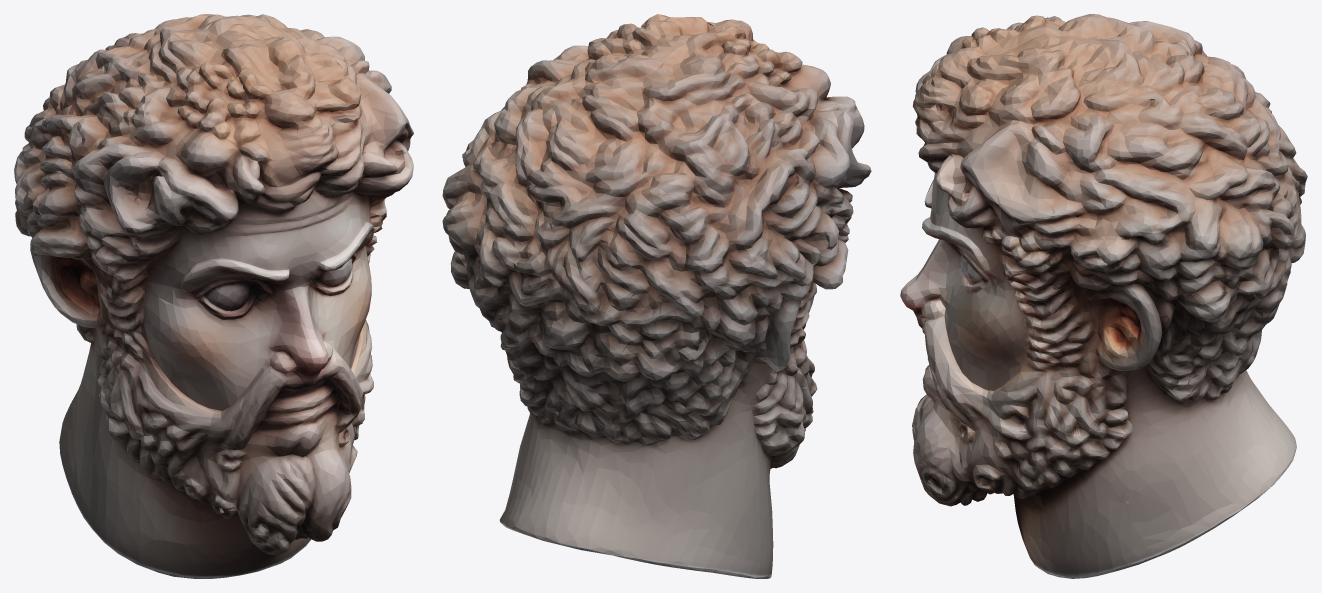
File: statue_5.glb
The picture shows the model from 3 angles, left to right: view 1: azimuth 30°, elevation 25°; view 2: azimuth 150°, elevation 25°; view 3: azimuth 270°, elevation 25°; orthographic projection.
Visible parts, largest first — view 1: world; view 2: world; view 3: world.
Part boxes in pixels (x1,y1,x2,y2): world: (14,14,413,578); world: (442,14,871,578); world: (900,14,1307,578).
Size of the model in its own units: 0.7307 by 0.9999 by 0.7146.
1 material, 1 textured.
